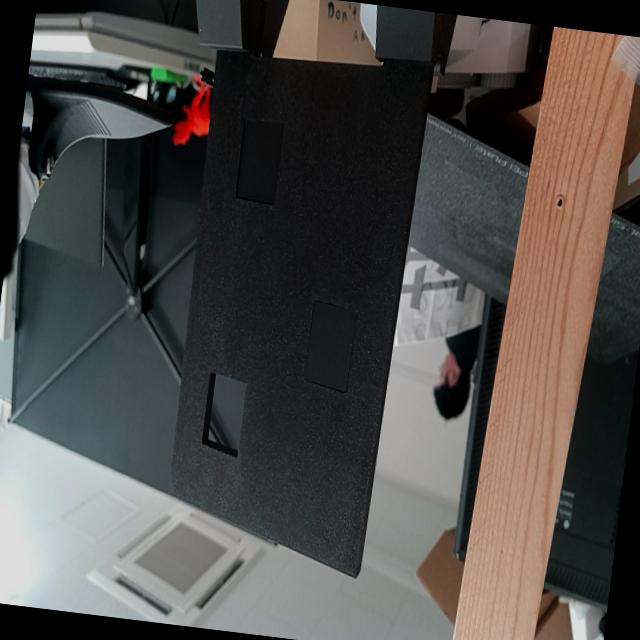Obstacle: (201, 372, 248, 459)
Wall: (168, 51, 432, 577)
